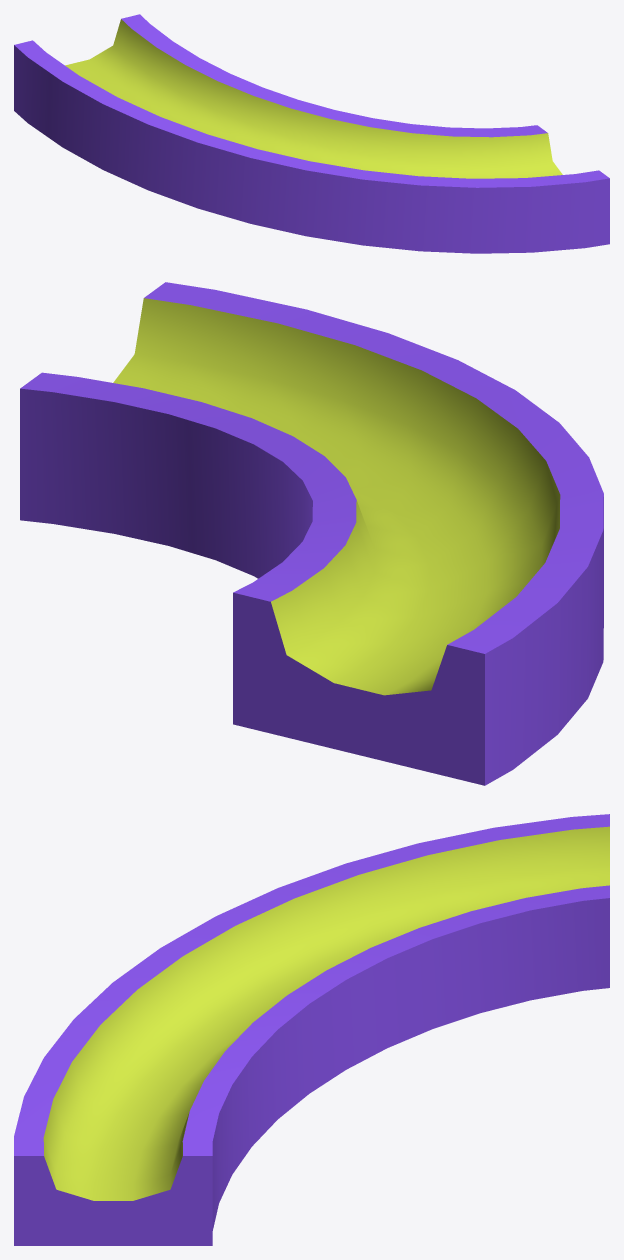
File: helix_large_quarter_right.fbx
3 renders of one model, top to bottom at view 1: azimuth 30°, elevation 25°; view 2: azimuth 150°, elevation 25°; view 3: azimuth 270°, elevation 25°, orthographic. The views are drawn at different scales.
Visible parts, largest first — view 1: helix_large_quarter_right; view 2: helix_large_quarter_right; view 3: helix_large_quarter_right.
Boxes of the visible parts, x1,y1,x2,y2 form: helix_large_quarter_right: [14, 14, 609, 253]; helix_large_quarter_right: [20, 282, 603, 785]; helix_large_quarter_right: [14, 814, 609, 1245].
Size of the model in its own units: 30.01 by 10 by 30.01.
